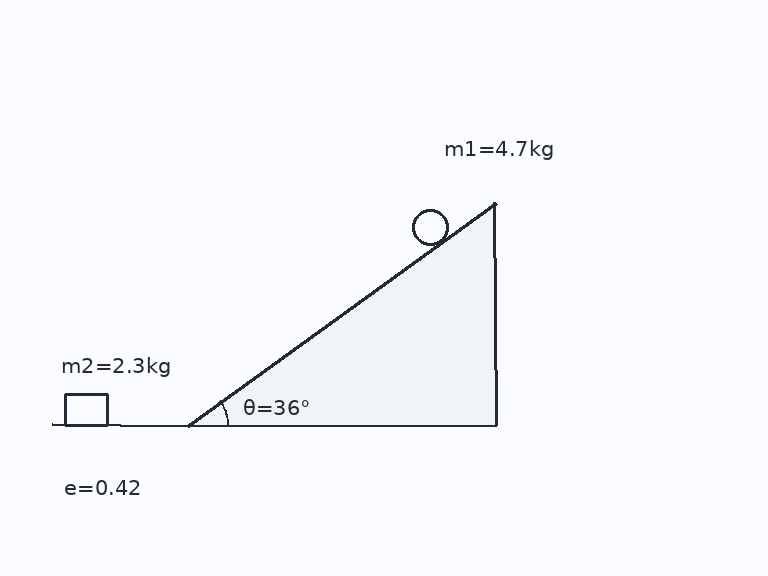ball: (410, 207, 450, 247)
block: (63, 392, 109, 427)
ramp: (186, 200, 497, 427)
